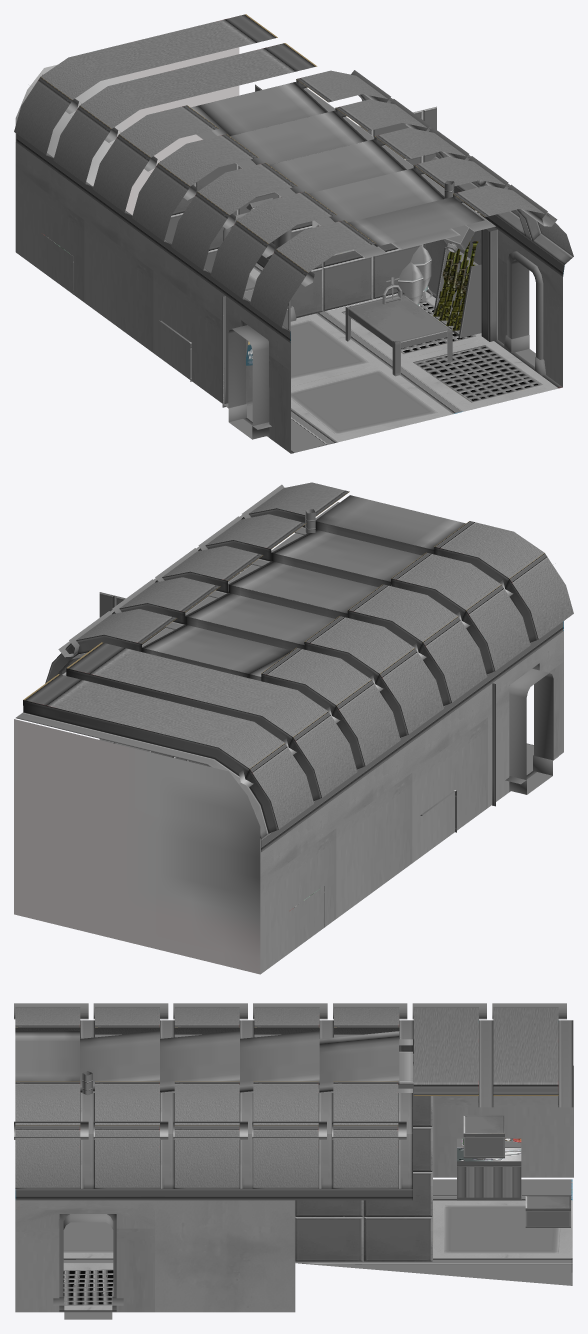
File: MSH_Armory_room_L1_R1_optimized.fbx
3 renders of one model, top to bottom at view 1: azimuth 30°, elevation 25°; view 2: azimuth 150°, elevation 25°; view 3: azimuth 270°, elevation 25°, orthographic. The views are drawn at different scales.
Parts seen in each view (by area): view 1: lightmap1, lightmap0, lightmap-1, MSH_Armory_room_Ani01 1; view 2: lightmap1, lightmap-1; view 3: lightmap1, lightmap0, lightmap-1.
Part boxes in pixels (box(x1,y1,x2,y2)): lightmap1: box(14, 14, 573, 453); lightmap0: box(43, 234, 481, 405); lightmap-1: box(228, 207, 535, 439); MSH_Armory_room_Ani01 1: box(443, 180, 485, 252); lightmap1: box(14, 482, 573, 974); lightmap-1: box(509, 668, 553, 794); lightmap1: box(14, 1003, 573, 1312); lightmap0: box(457, 1115, 570, 1227); lightmap-1: box(63, 1214, 113, 1319).
Bounding box in the file's own units: 10.42 × 6.56 × 16.55.
Materials: 2 (2 with a texture image).
